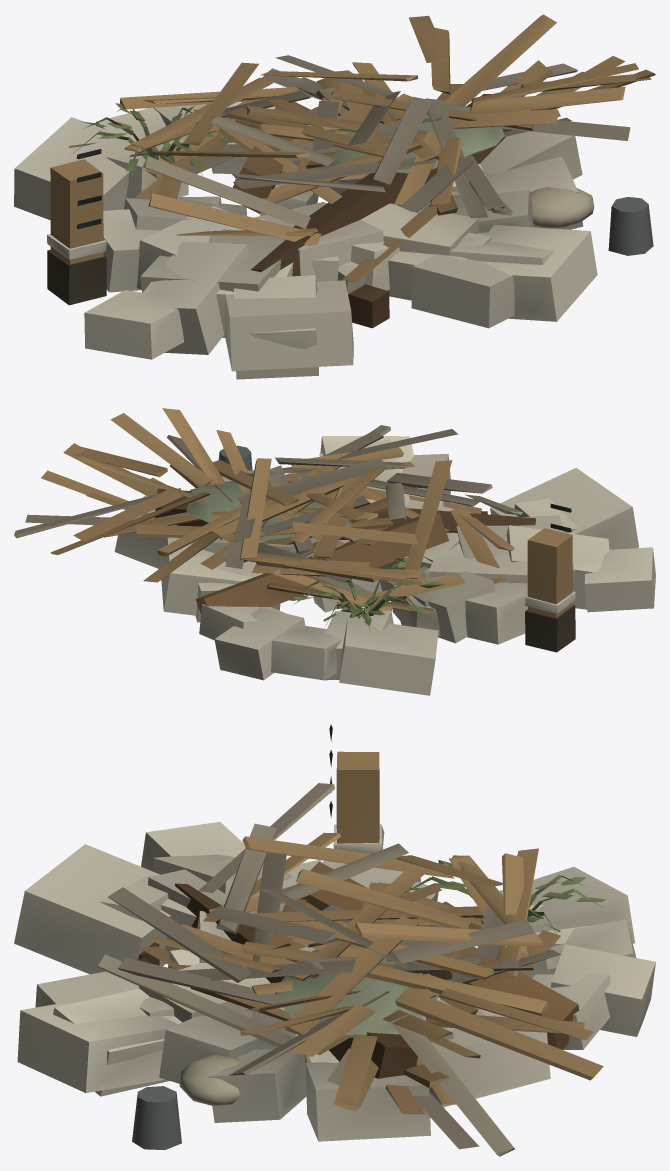
Rendered from gallery_collapse_b_lod2.glb.
3 renders of one model, top to bottom at view 1: azimuth 30°, elevation 25°; view 2: azimuth 150°, elevation 25°; view 3: azimuth 270°, elevation 25°, orthographic. The views are drawn at different scales.
Parts seen in each view (by area): view 1: Surface.001; view 2: Surface.001; view 3: Surface.001.
Part boxes in pixels (bbox=[...]): Surface.001: bbox=[14, 14, 655, 379]; Surface.001: bbox=[14, 408, 655, 695]; Surface.001: bbox=[14, 724, 655, 1156].
Bounding box in the file's own units: 7.91 × 1.98 × 6.39.
